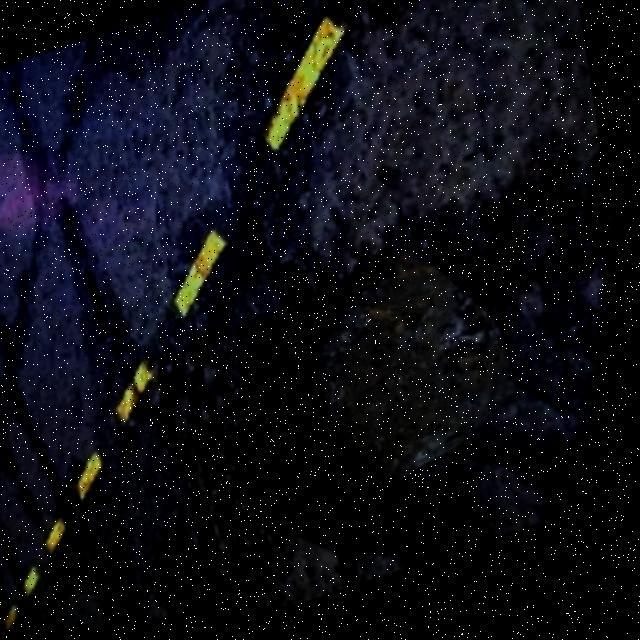pothole: (191, 209, 589, 622)
